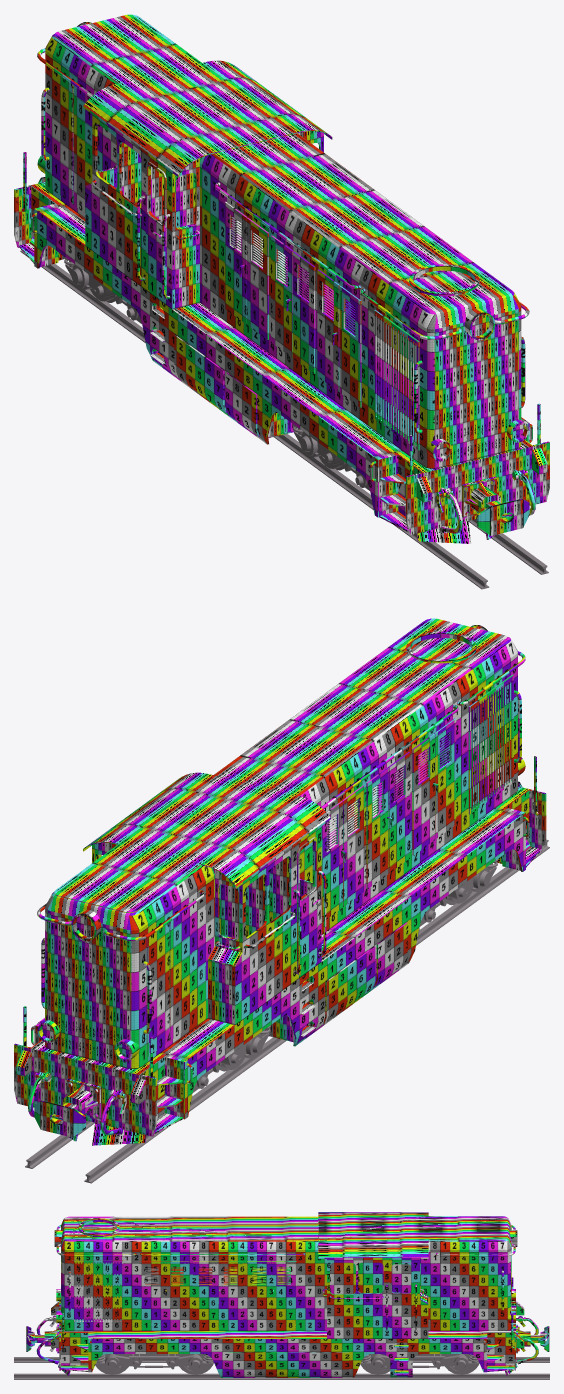
Rendered from train01.FBX.
3 renders of one model, top to bottom at view 1: azimuth 30°, elevation 25°; view 2: azimuth 150°, elevation 25°; view 3: azimuth 270°, elevation 25°, orthographic. The views are drawn at different scales.
Visible parts, largest first — view 1: Body_and_cab, Frame, Track, Rear_truck, Front_truck; view 2: Body_and_cab, Frame, Track, Front_truck, Rear_truck; view 3: Body_and_cab, Frame, Track, Front_truck, Rear_truck.
Boxes of the visible parts, bbox=[...] form: Body_and_cab: bbox=[37, 14, 529, 468]; Frame: bbox=[14, 152, 549, 543]; Track: bbox=[20, 250, 548, 589]; Rear_truck: bbox=[64, 257, 141, 323]; Front_truck: bbox=[293, 424, 369, 490]; Body_and_cab: bbox=[37, 618, 525, 1068]; Frame: bbox=[14, 756, 546, 1145]; Track: bbox=[25, 839, 549, 1183]; Front_truck: bbox=[418, 859, 497, 934]; Rear_truck: bbox=[191, 1025, 270, 1100]; Body_and_cab: bbox=[54, 1212, 517, 1338]; Frame: bbox=[26, 1277, 549, 1377]; Track: bbox=[14, 1357, 549, 1379]; Front_truck: bbox=[95, 1354, 213, 1374]; Rear_truck: bbox=[360, 1354, 479, 1374].
Size of the model in its own units: 89.82 by 128 by 432.
